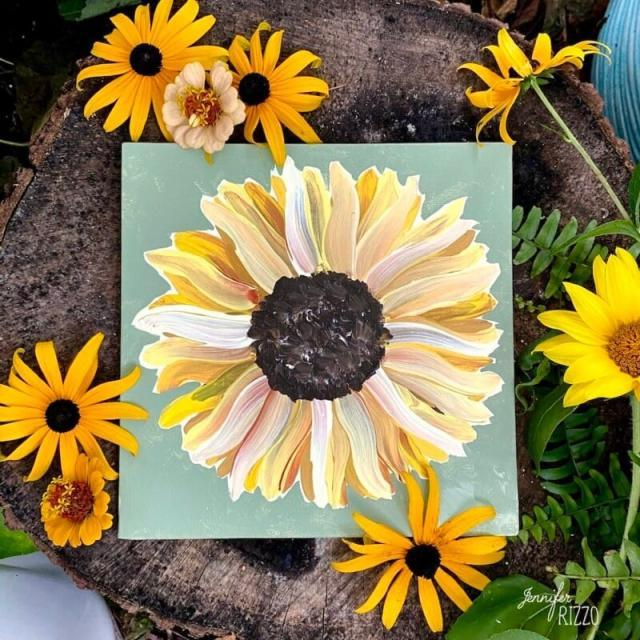sunflower: (130, 154, 504, 509), (331, 463, 507, 633), (0, 331, 148, 483), (74, 0, 228, 142), (455, 26, 610, 147), (532, 246, 639, 408), (222, 20, 330, 166), (38, 454, 116, 546)
